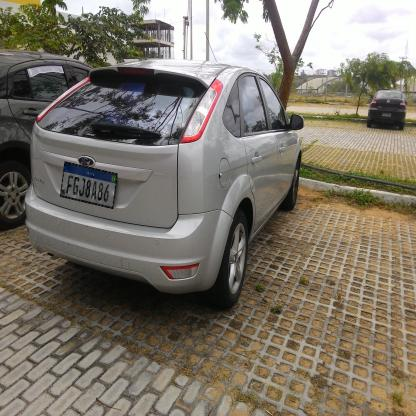PlacaM: (60, 161, 118, 209)
